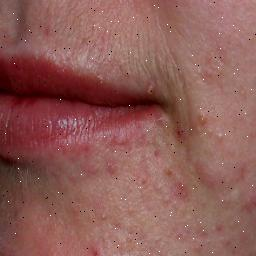ance: (208, 218, 236, 240), (200, 59, 216, 89), (102, 162, 126, 178), (158, 190, 176, 210), (191, 111, 209, 129), (94, 209, 110, 227), (210, 130, 228, 144)
